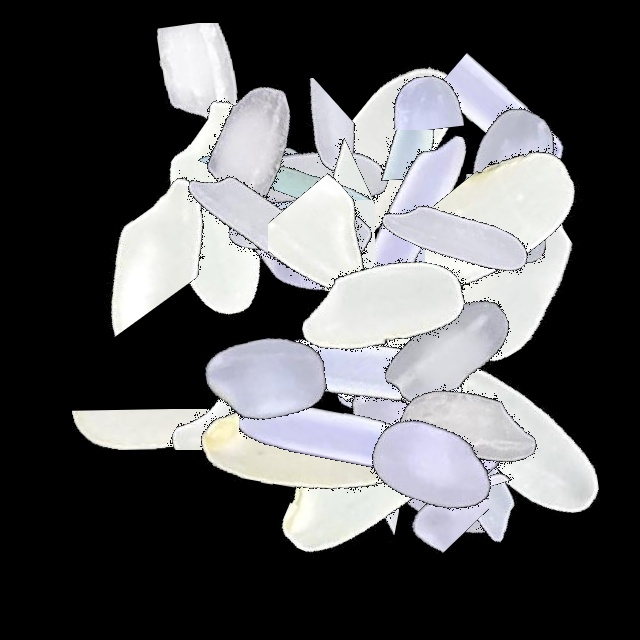Broken: (425, 128, 594, 378), (239, 348, 407, 598), (431, 0, 598, 250), (78, 23, 328, 188), (377, 174, 627, 337), (321, 278, 480, 528), (352, 187, 511, 437), (413, 359, 570, 609), (182, 345, 331, 595), (59, 109, 205, 359), (330, 274, 580, 419), (239, 96, 375, 346), (122, 113, 372, 243), (367, 356, 489, 606), (161, 78, 411, 199), (268, 125, 388, 375), (280, 380, 399, 630), (48, 409, 298, 528), (298, 11, 548, 130), (187, 82, 437, 200), (351, 260, 467, 510), (321, 382, 571, 496), (333, 0, 442, 250), (89, 346, 339, 450), (236, 168, 486, 261)
Full: (322, 320, 572, 570), (257, 30, 507, 280), (327, 366, 577, 616), (315, 140, 565, 390), (390, 313, 640, 563), (189, 58, 439, 308), (244, 358, 494, 608), (359, 120, 609, 370), (346, 350, 596, 600), (100, 85, 350, 335), (284, 273, 534, 523), (379, 144, 629, 394), (286, 96, 536, 346), (183, 126, 433, 376), (388, 40, 638, 290), (231, 249, 481, 499), (175, 325, 425, 575), (173, 105, 423, 355), (125, 26, 375, 276), (339, 304, 589, 554), (127, 96, 377, 346), (142, 252, 392, 502), (309, 341, 559, 591), (261, 181, 511, 431), (333, 110, 583, 360)
